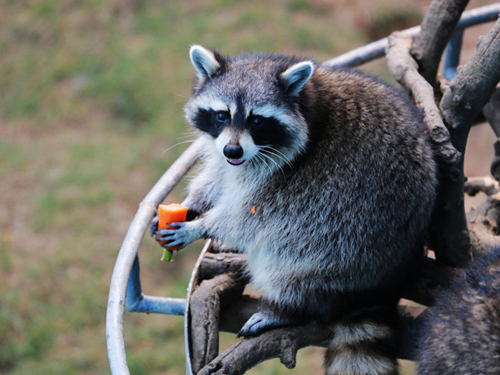raccoon: (142, 41, 445, 341)
